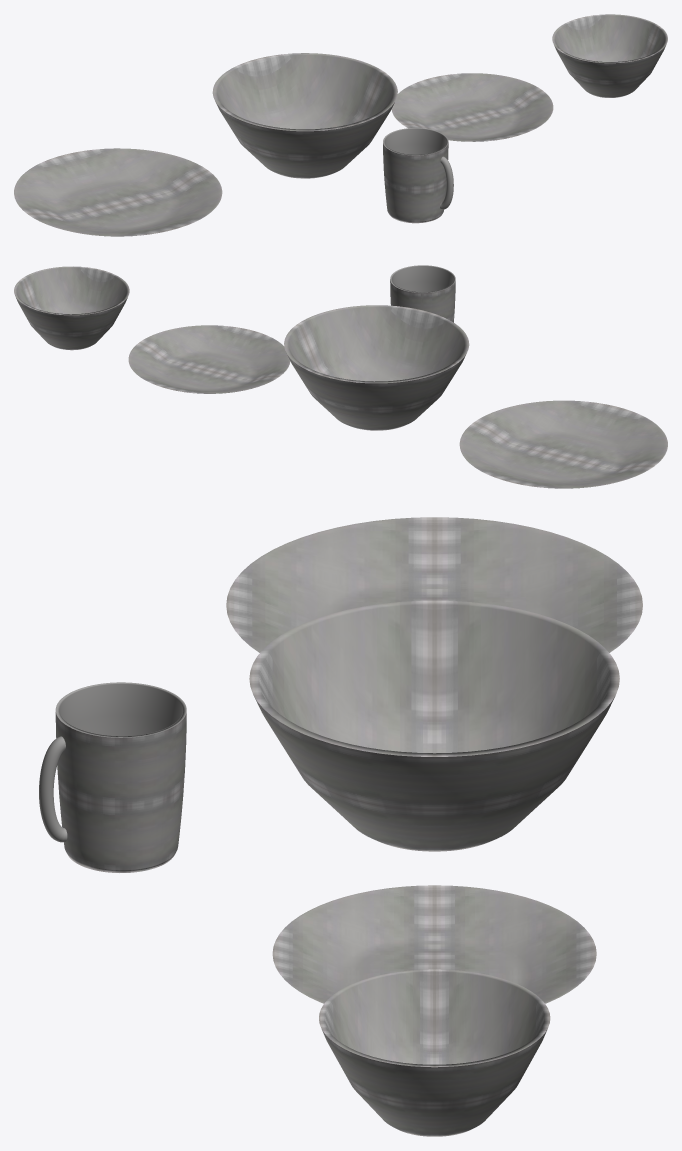
File: BLC-06.glb
The picture shows the model from 3 angles, top to bottom: view 1: azimuth 30°, elevation 25°; view 2: azimuth 150°, elevation 25°; view 3: azimuth 270°, elevation 25°; orthographic projection. The views are drawn at different scales.
Bounding box in the file's own units: 0.946 × 0.1 × 0.3913.
Materials: 11 (9 with a texture image).
